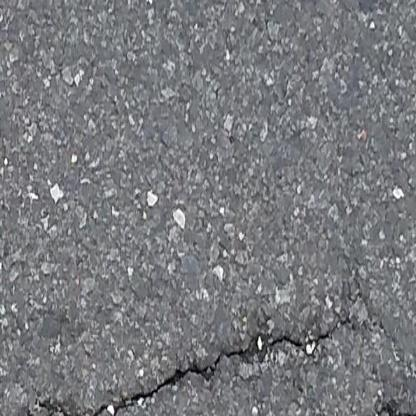Cracks: (13, 314, 335, 416), (370, 399, 416, 416)
